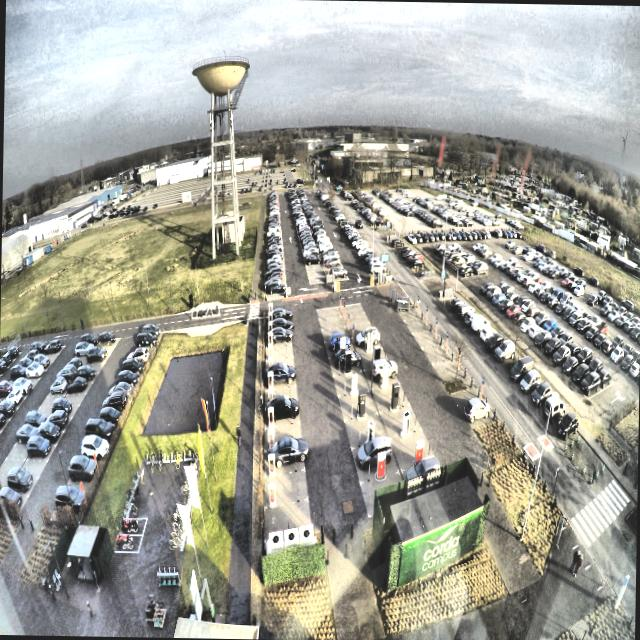cabinet: (268, 525, 313, 549)
car: (267, 436, 312, 465), (264, 394, 300, 423), (264, 362, 296, 383), (266, 325, 295, 343), (268, 316, 295, 331), (270, 306, 293, 322)
parking: (264, 498, 311, 540), (265, 470, 308, 506), (264, 445, 304, 475), (264, 421, 303, 450), (264, 401, 300, 428), (265, 365, 296, 389), (265, 385, 298, 405), (265, 354, 294, 370), (265, 344, 293, 358), (265, 333, 291, 348), (265, 312, 290, 327), (265, 323, 291, 336)
supercharger: (267, 483, 276, 506), (267, 454, 275, 473), (267, 407, 274, 428), (267, 429, 274, 447), (267, 371, 273, 385), (267, 357, 273, 369), (268, 388, 273, 402), (267, 332, 273, 343), (267, 303, 273, 313), (268, 344, 273, 355), (268, 322, 272, 330), (268, 312, 272, 320)
